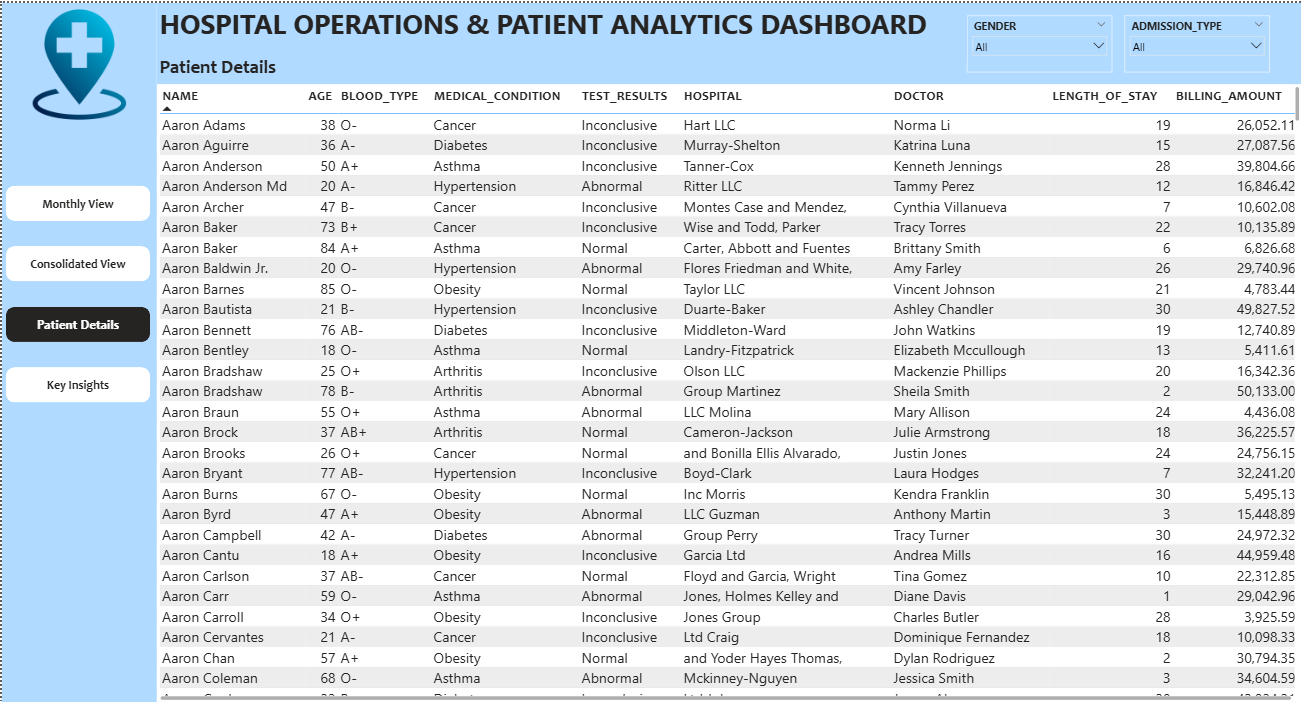

What the dashboard file says about the page in this screenshot:
{"tool":"powerbi","page":{"name":"Patient Details","canvas":[2600,1400],"ordinal":2},"visuals":[{"type":"shape","box":[0,0,309.4,1700.6],"z":0},{"type":"shape","box":[310,0,2290.5,163],"z":1000},{"type":"textbox","box":[310,0,1699.8,98.9],"z":2000},{"type":"textbox","box":[309.6,100.7,271.9,62.9],"z":3000},{"type":"pageNavigator","title":"Menu","box":[7.6,365,289.5,435.5],"z":4000},{"type":"tableEx","fields":{"Values":["HEALTHCAREANALYSIS.NAME","HEALTHCAREANALYSIS.AGE","HEALTHCAREANALYSIS.BLOOD_TYPE","HEALTHCAREANALYSIS.MEDICAL_CONDITION","HEALTHCAREANALYSIS.TEST_RESULTS","HEALTHCAREANALYSIS.HOSPITAL","HEALTHCAREANALYSIS.DOCTOR","HEALTHCAREANALYSIS.LENGTH_OF_STAY","HEALTHCAREANALYSIS.BILLING_AMOUNT"]},"box":[310,163,2290,1237],"z":5000},{"type":"image","box":[0,7.6,309.6,231.6],"z":6000},{"type":"slicer","fields":{"Values":["HEALTHCAREANALYSIS.GENDER"]},"box":[1929.7,26,290.5,113.4],"z":7000},{"type":"slicer","fields":{"Values":["HEALTHCAREANALYSIS.ADMISSION_TYPE"]},"box":[2246.2,26,290.5,113.4],"z":8000}]}

Visuals, with their boxes on the page's 2600x1400 design canvas (x1, y1, x2, y2). These are canvas units, not pixel positions in the 1301x702 screenshot, which may show the page scaled, cropped or inside an application window:
shape: (left=0, top=0, right=309, bottom=1701)
shape: (left=310, top=0, right=2600, bottom=163)
textbox: (left=310, top=0, right=2010, bottom=99)
textbox: (left=310, top=101, right=582, bottom=164)
"Menu" pageNavigator: (left=8, top=365, right=297, bottom=800)
tableEx - HEALTHCAREANALYSIS.NAME x HEALTHCAREANALYSIS.AGE: (left=310, top=163, right=2600, bottom=1400)
image: (left=0, top=8, right=310, bottom=239)
slicer - HEALTHCAREANALYSIS.GENDER: (left=1930, top=26, right=2220, bottom=139)
slicer - HEALTHCAREANALYSIS.ADMISSION_TYPE: (left=2246, top=26, right=2537, bottom=139)
